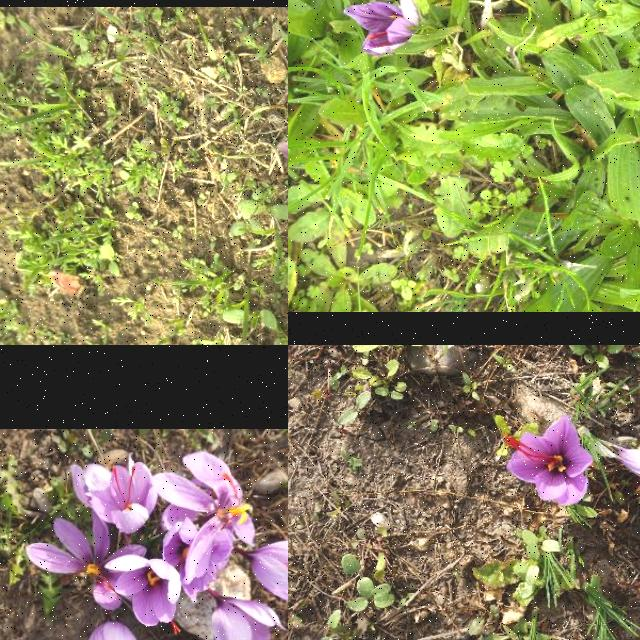flower: (150, 451, 256, 585), (26, 508, 148, 612), (504, 413, 596, 507), (104, 556, 184, 636), (84, 462, 158, 534), (343, 0, 421, 55), (210, 595, 288, 640), (248, 539, 288, 603), (85, 618, 150, 640), (615, 449, 640, 494)
overlap: (27, 451, 257, 637)
